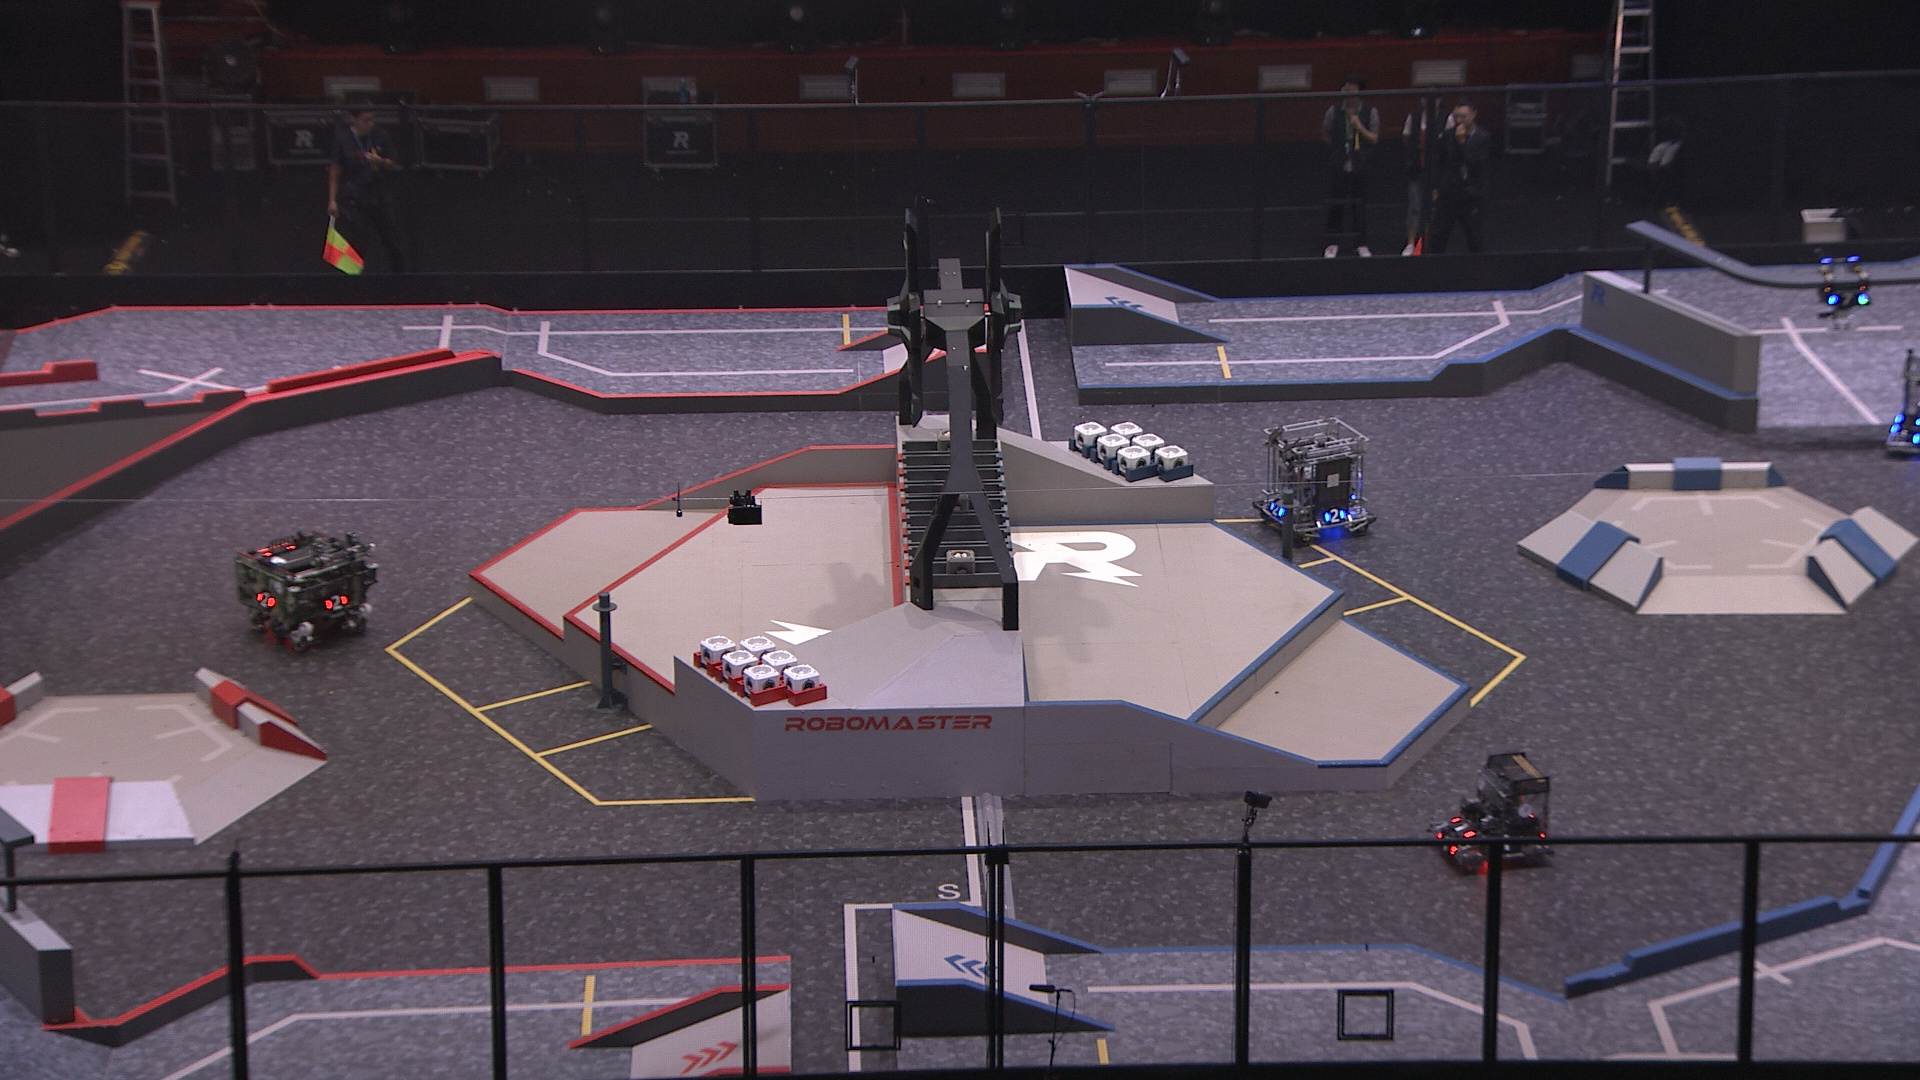armor: (1825, 291, 1869, 309), (1449, 815, 1476, 840), (1491, 832, 1524, 851), (1433, 831, 1458, 855), (253, 588, 278, 611), (320, 593, 351, 612), (1320, 508, 1348, 524), (1267, 500, 1287, 520)
car: (231, 527, 380, 654), (1247, 411, 1378, 545), (1425, 745, 1556, 876), (1884, 345, 1920, 460)
watcher: (1815, 245, 1874, 332)
